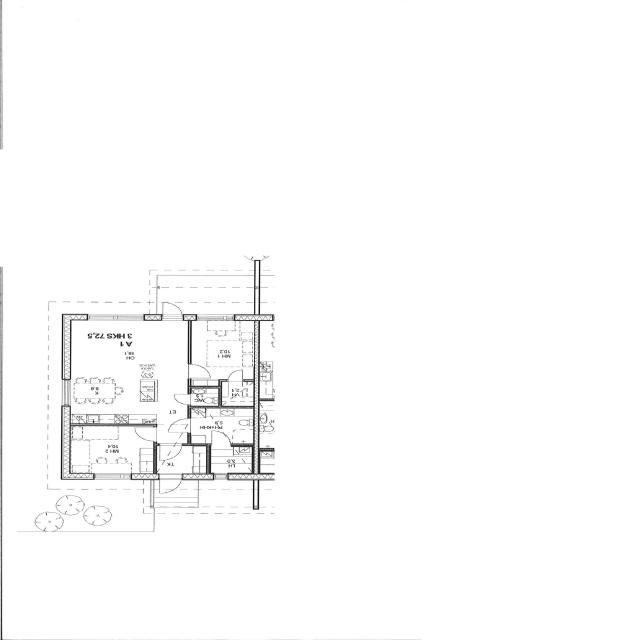door: (156, 442, 183, 462), (129, 426, 159, 443), (160, 301, 184, 321), (158, 476, 183, 494), (186, 364, 210, 382), (207, 430, 232, 446), (166, 418, 192, 433), (225, 368, 243, 382), (172, 392, 191, 405)
window: (83, 312, 143, 322), (58, 381, 73, 410), (89, 472, 130, 482), (192, 314, 235, 323), (211, 474, 231, 481)
zone: (59, 317, 188, 426), (62, 425, 155, 478), (188, 318, 259, 382), (186, 406, 258, 446), (207, 444, 254, 476), (219, 381, 255, 405), (187, 385, 219, 407)
